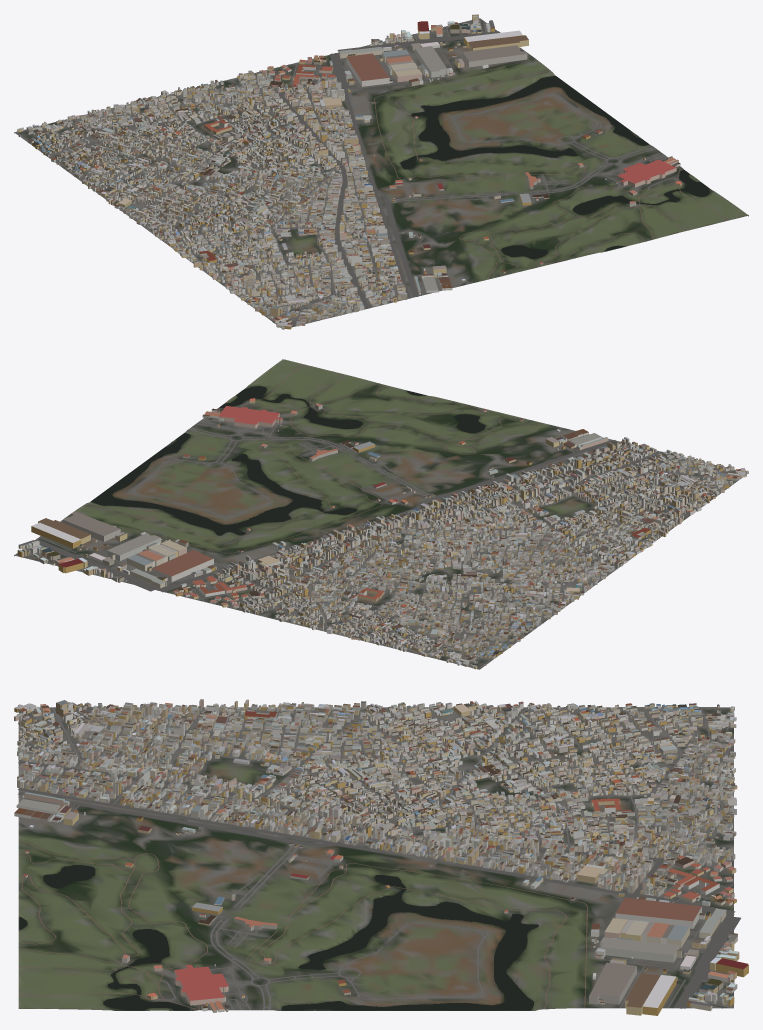
3 views of the same model, one above another, from view 1: azimuth 30°, elevation 25°; view 2: azimuth 150°, elevation 25°; view 3: azimuth 270°, elevation 25° (orthographic). The views are drawn at different scales.
Parts seen in each view (by area): view 1: buildings, ground, roads, water; view 2: buildings, ground, roads, water; view 3: buildings, ground, roads, water.
Boxes of the visible parts, bbox=[...] form: buildings: bbox=[17, 14, 681, 329]; ground: bbox=[14, 18, 748, 328]; roads: bbox=[15, 18, 748, 326]; water: bbox=[400, 76, 709, 259]; buildings: bbox=[17, 398, 748, 669]; ground: bbox=[14, 359, 746, 669]; roads: bbox=[14, 359, 735, 669]; water: bbox=[91, 386, 485, 535]; buildings: bbox=[14, 699, 748, 1015]; ground: bbox=[18, 707, 733, 1010]; roads: bbox=[18, 707, 740, 1010]; water: bbox=[19, 865, 538, 1010].
Bounding box in the file's own units: 1443 × 35.64 × 1439.
